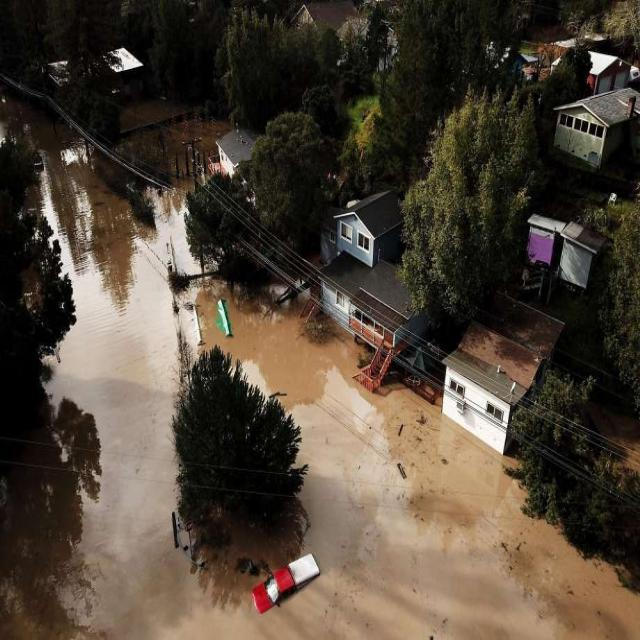flooded_areas: (31, 92, 568, 619)
